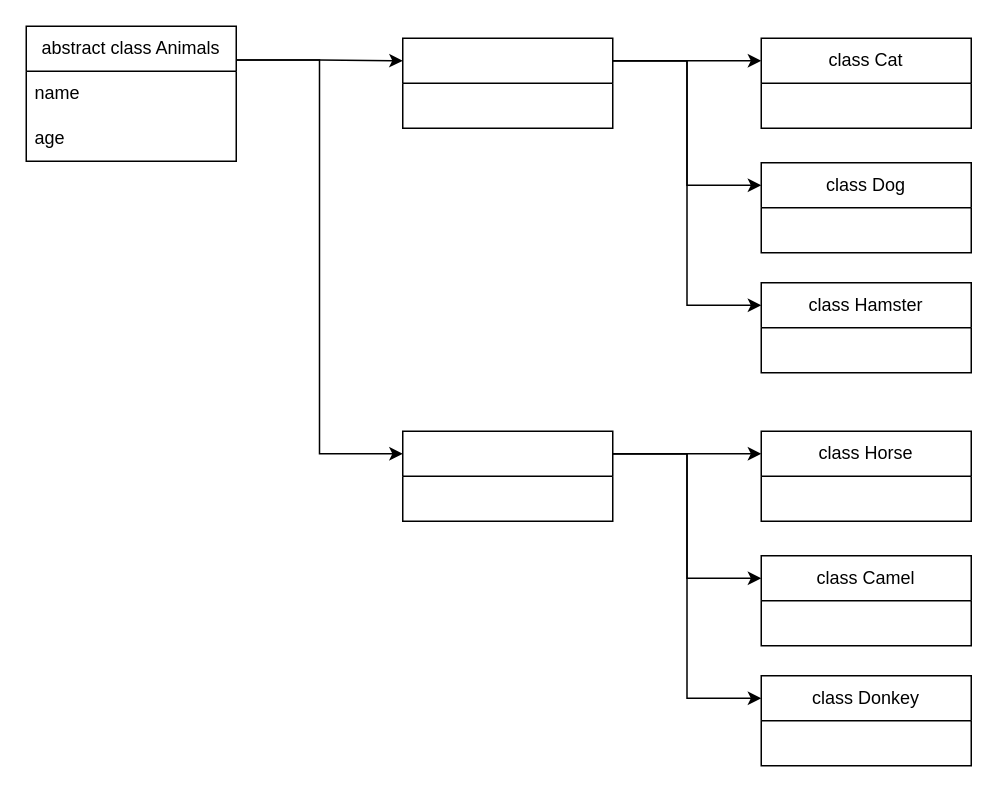
Image size: 998x792. Some labels were removed from this diagram. The shapes that lost their labels are listed below. From the top down, each one's centre as x and y in pixels, then its label:
[507,82]: class HomeAminals
[507,475]: class PackAminals
